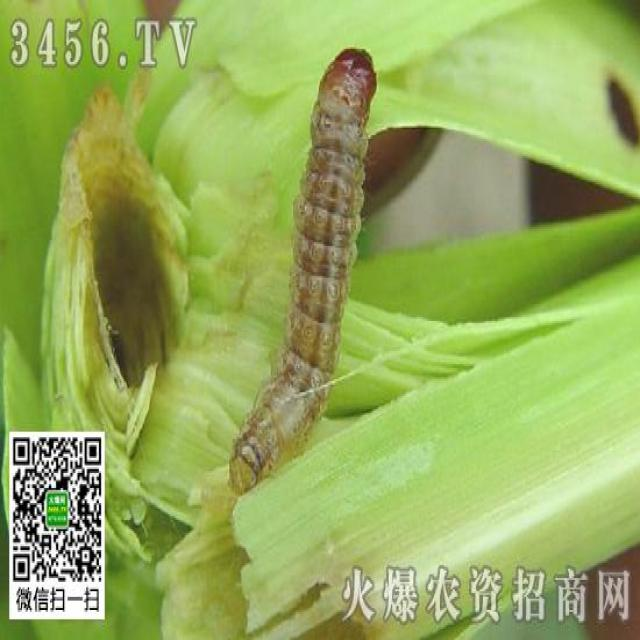armyworm: (224, 25, 381, 508)
